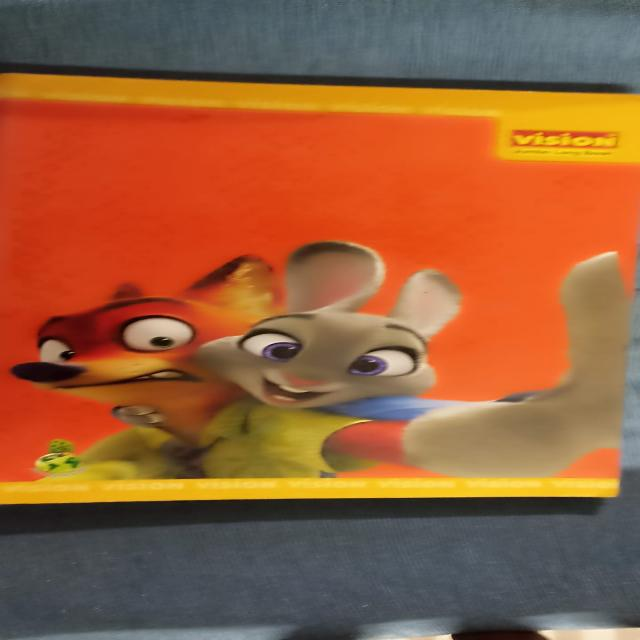book: (0, 66, 614, 502)
